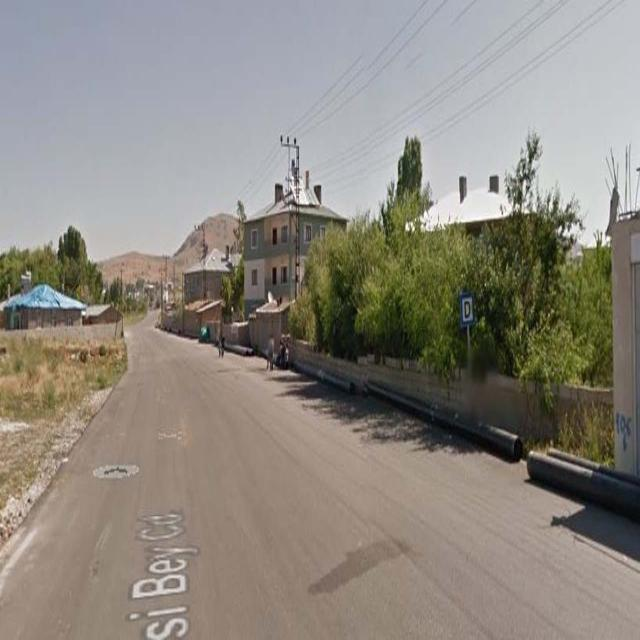durak: (459, 291, 477, 328)
